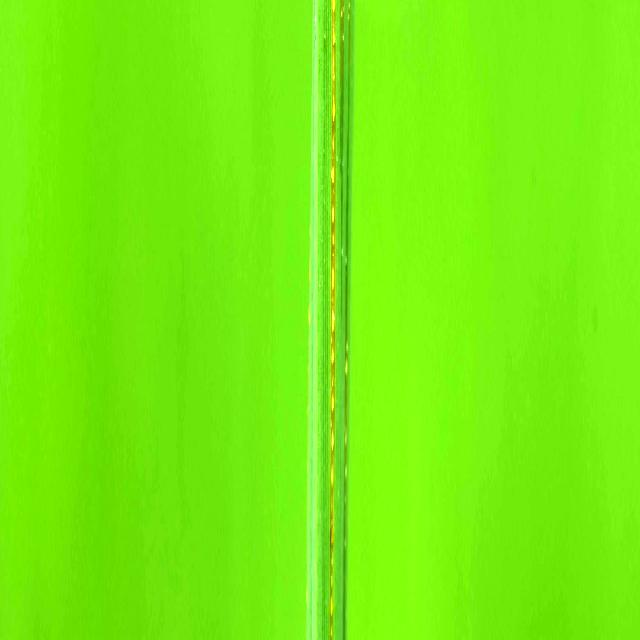BLS: (343, 0, 350, 638), (330, 0, 336, 638), (340, 0, 345, 112)
